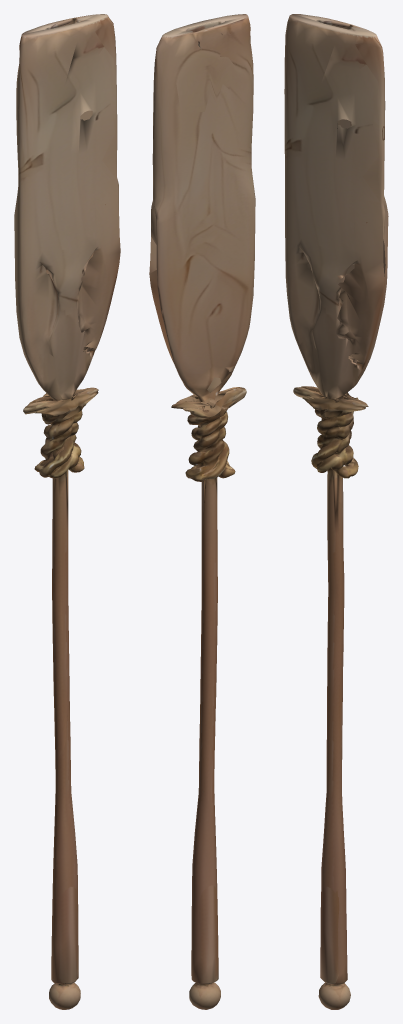
The model's file is boat paddle.fbx.
3 renders of one model, left to right at view 1: azimuth 30°, elevation 25°; view 2: azimuth 210°, elevation 25°; view 3: azimuth 330°, elevation 25°, orthographic.
Visible parts, largest first — view 1: model; view 2: model; view 3: model.
Part boxes in pixels (x1,y1,x2,y2): model: [14, 14, 120, 1009]; model: [149, 14, 255, 1009]; model: [284, 14, 388, 1009].
Size of the model in its own units: 58.66 by 548 by 21.01.
Materials: 1 (1 with a texture image).
